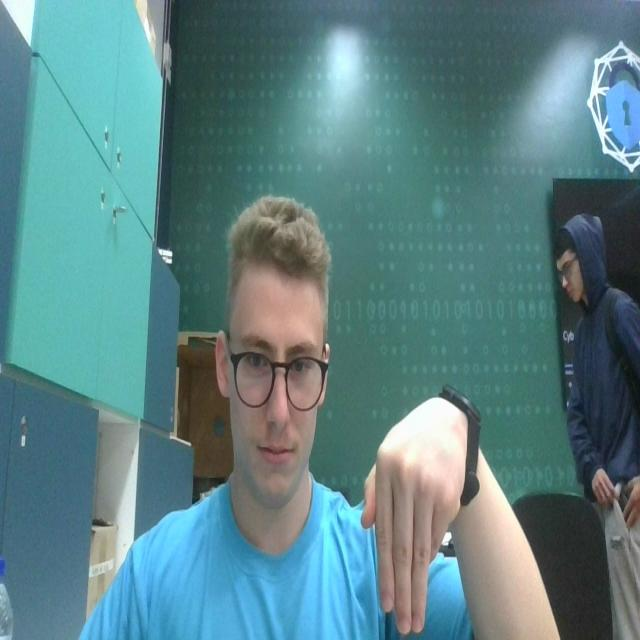M: (353, 389, 468, 640)
